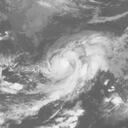cyclone: (37, 32, 110, 98)
